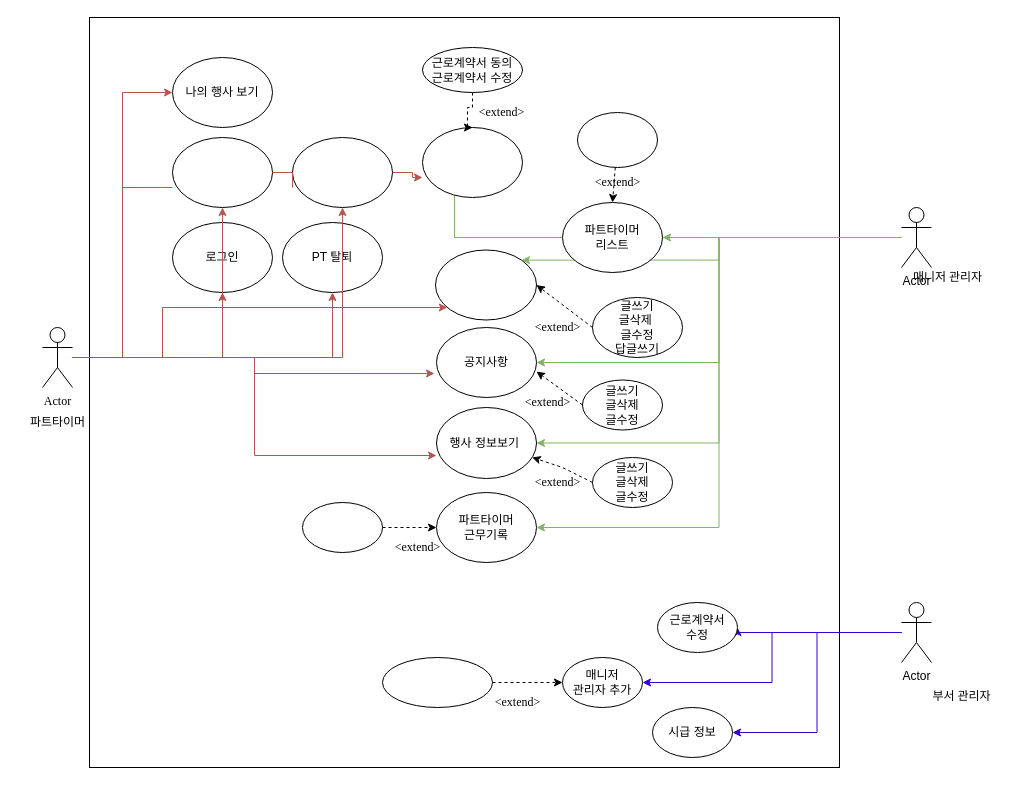
Some shapes in this 1023 by 785 pixel diagram are drawn without their labels. The box of each missing label's shape, as (x1, y1, x2, y2) in pixels:
PT 가입: (172, 136, 272, 208)
PT정보 수정: (292, 136, 392, 208)
건의사항 게시판: (434, 249, 536, 320)
근로계약서 작성: (422, 126, 522, 198)
근무기록 등록 근무기록 삭제 근무기록 수정: (302, 502, 382, 552)
매니저 관리자 등록 매니저 관리자 수정 매니저 관리자 삭제: (382, 656, 492, 708)
파트타이머 삭제: (576, 112, 658, 168)
